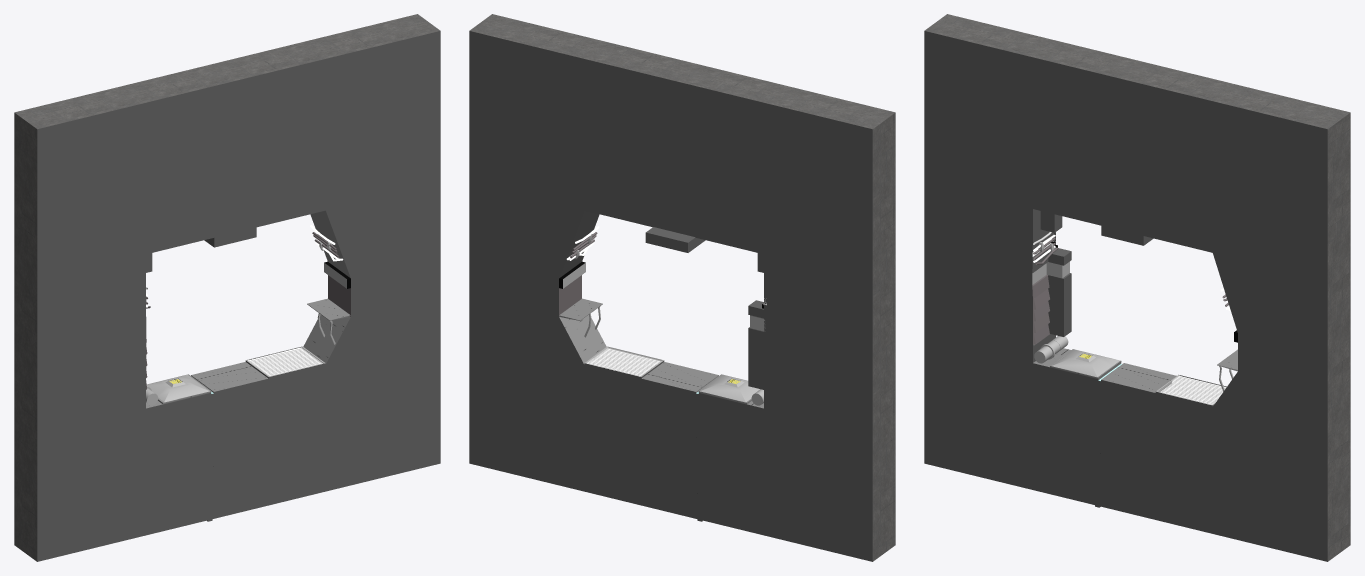
The model's file is Tunnel 3.fbx.
3 renders of one model, left to right at view 1: azimuth 30°, elevation 25°; view 2: azimuth 150°, elevation 25°; view 3: azimuth 330°, elevation 25°, orthographic.
Parts seen in each view (by area): view 1: Cube.015; view 2: Cube.015; view 3: Cube.015.
Boxes of the visible parts, x1,y1,x2,y2 form: Cube.015: [14, 14, 440, 561]; Cube.015: [469, 14, 895, 561]; Cube.015: [924, 14, 1350, 561].
Bounding box in the file's own units: 7126 × 7328 × 945.
